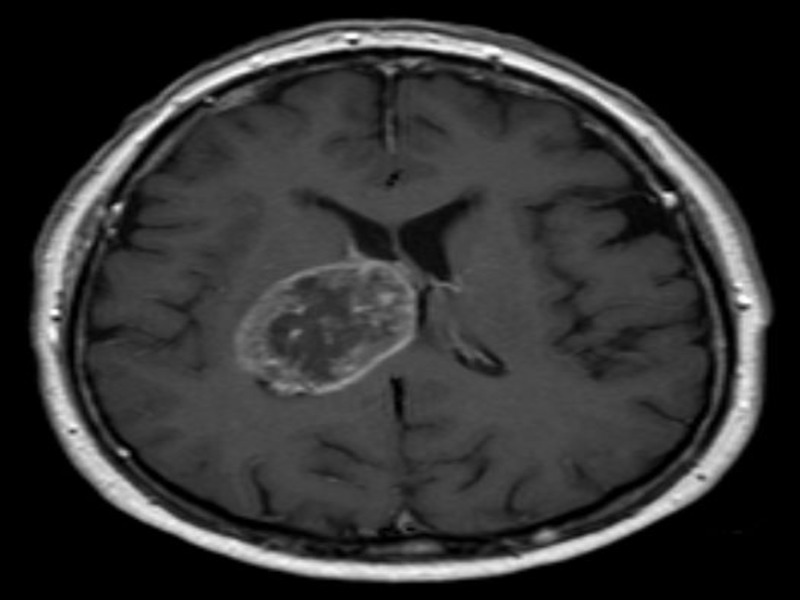tumor: (228, 254, 425, 402)
